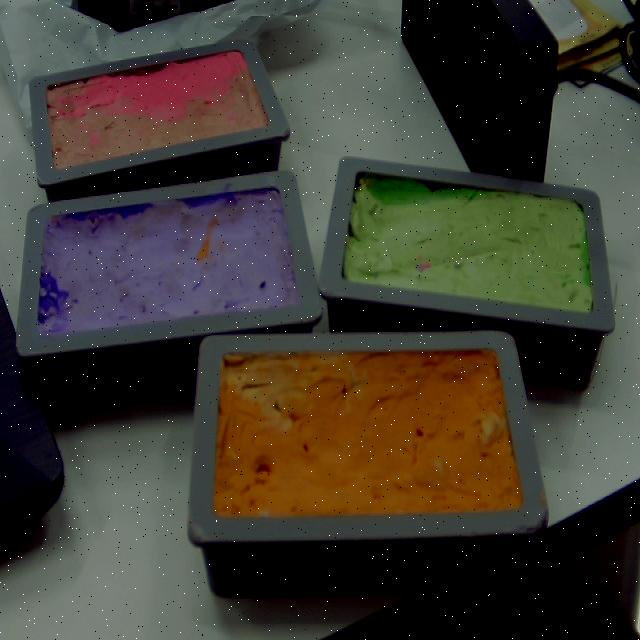block: (187, 327, 551, 597), (12, 168, 323, 410), (318, 156, 614, 392), (27, 39, 293, 204)
